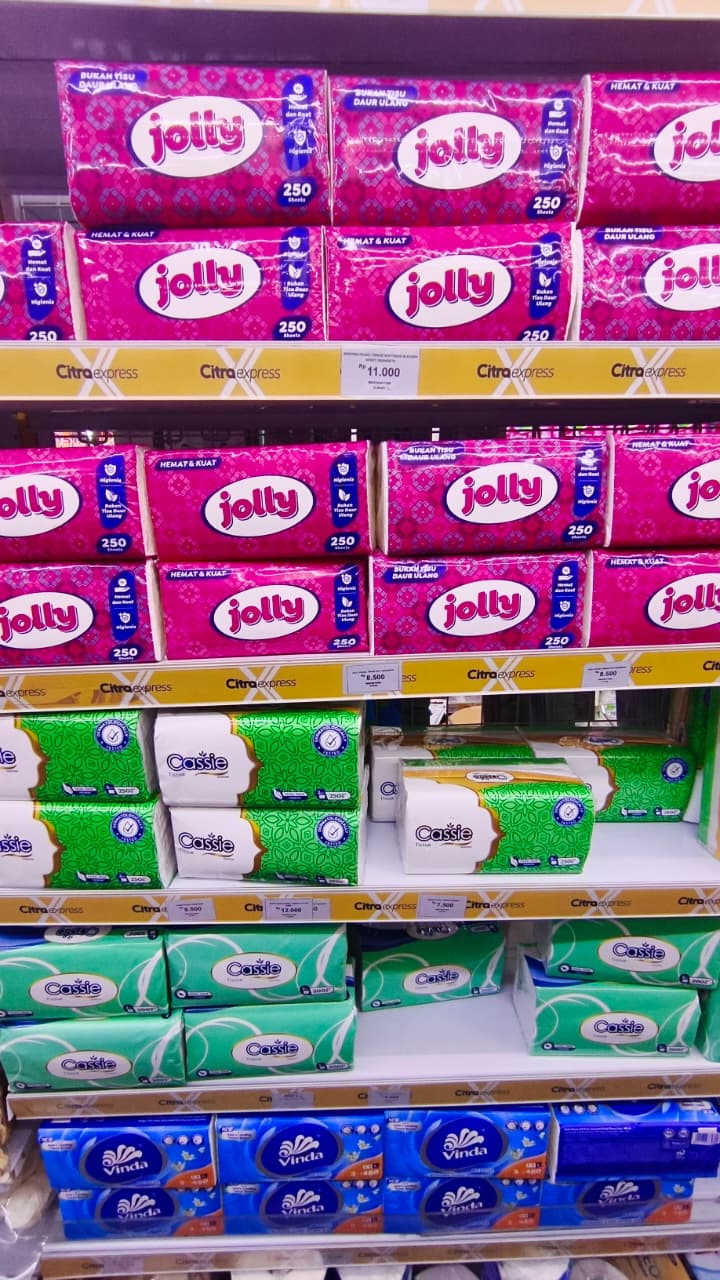Cassie: (373, 755, 513, 895), (133, 697, 273, 837)
Jolly: (185, 441, 325, 581), (400, 541, 540, 681), (376, 231, 516, 371), (133, 213, 273, 353)
